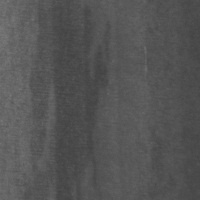inclusion: (75, 2, 113, 188)
